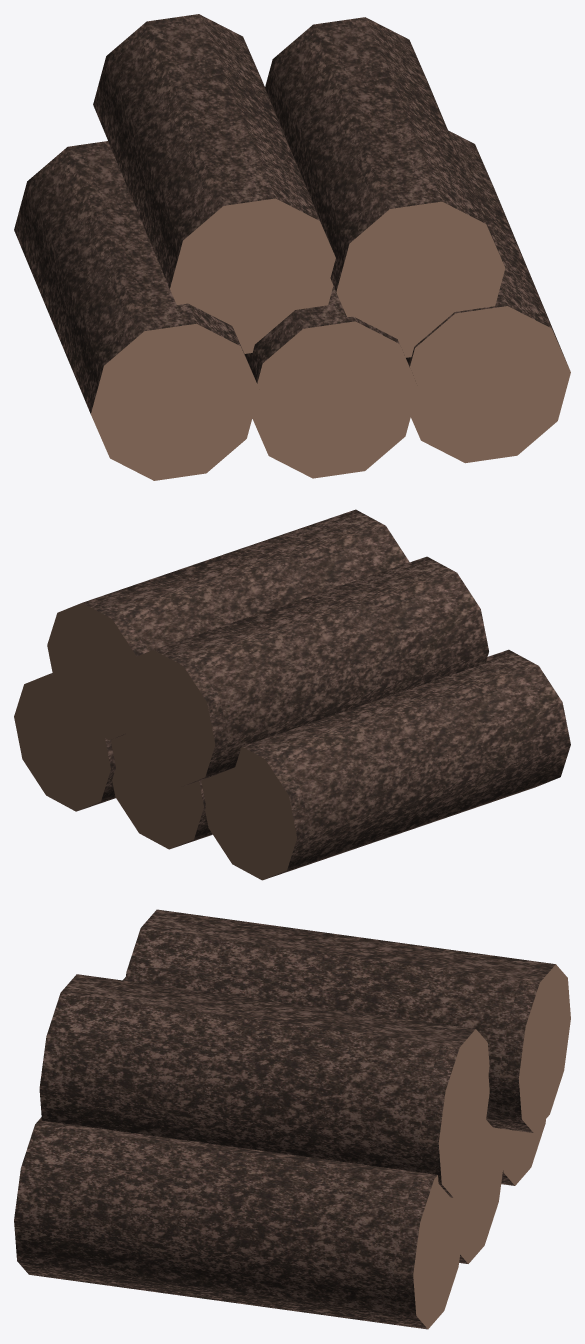
The model's file is butuci.fbx.
3 renders of one model, top to bottom at view 1: azimuth 30°, elevation 25°; view 2: azimuth 150°, elevation 25°; view 3: azimuth 270°, elevation 25°, orthographic. The views are drawn at different scales.
Parts seen in each view (by area): view 1: Cylinder; view 2: Cylinder; view 3: Cylinder.
Boxes of the visible parts, x1,y1,x2,y2 form: Cylinder: (14, 14, 570, 480); Cylinder: (14, 509, 570, 880); Cylinder: (14, 909, 570, 1329).
Size of the model in its own units: 541 by 260 by 494.
